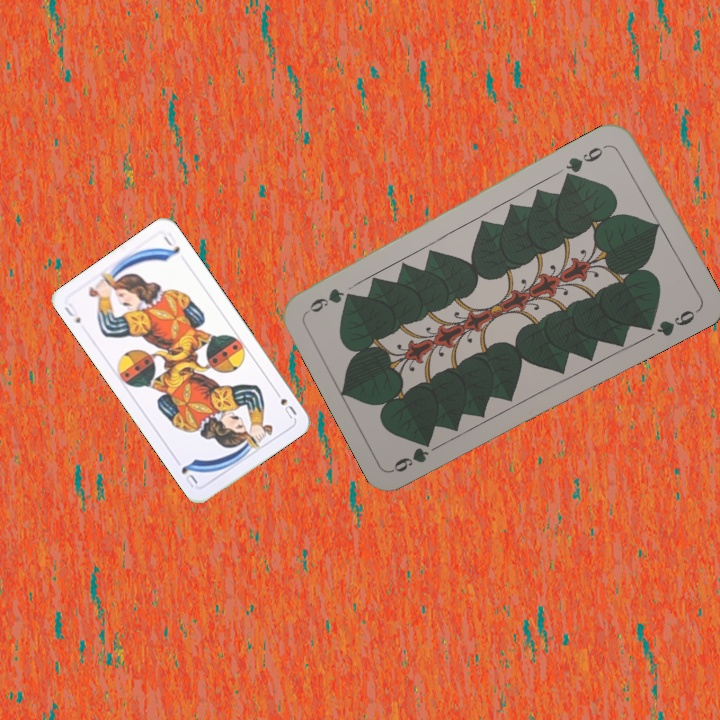G9: (561, 140, 613, 179), (389, 435, 435, 475)
SU: (270, 385, 299, 421), (60, 299, 83, 326)
